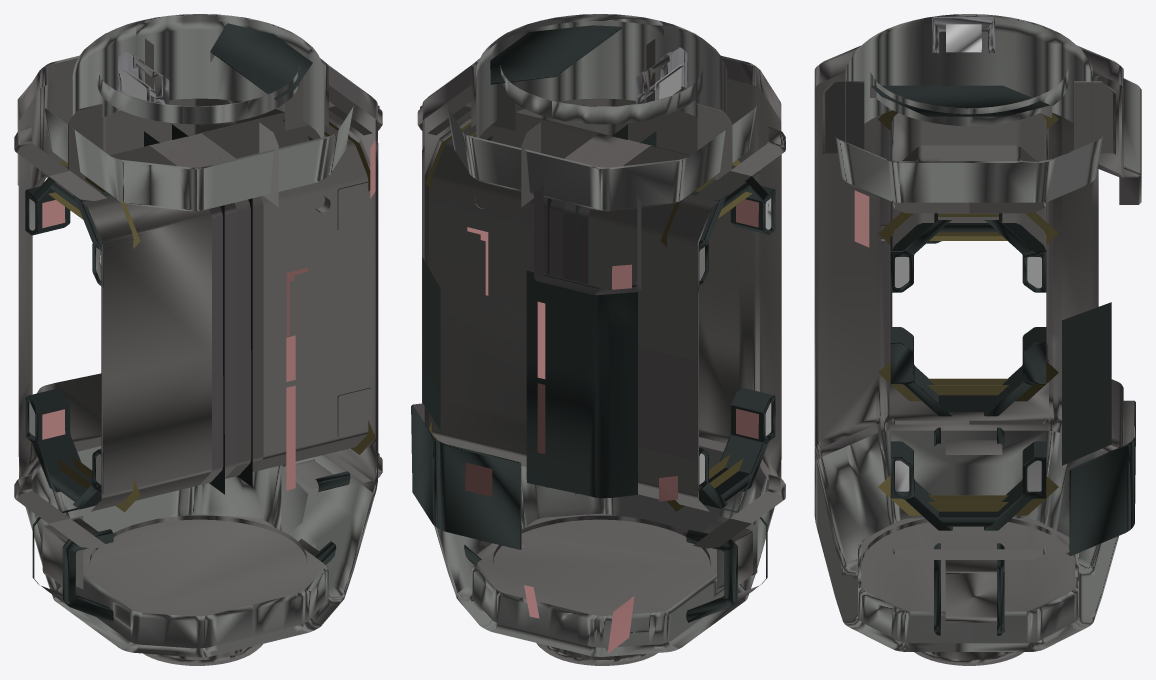
File: addon_solar_con_a.glb
3 renders of one model, left to right at view 1: azimuth 30°, elevation 25°; view 2: azimuth 150°, elevation 25°; view 3: azimuth 270°, elevation 25°, orthographic.
Size of the model in its own units: 64.9 by 121 by 60.48.
